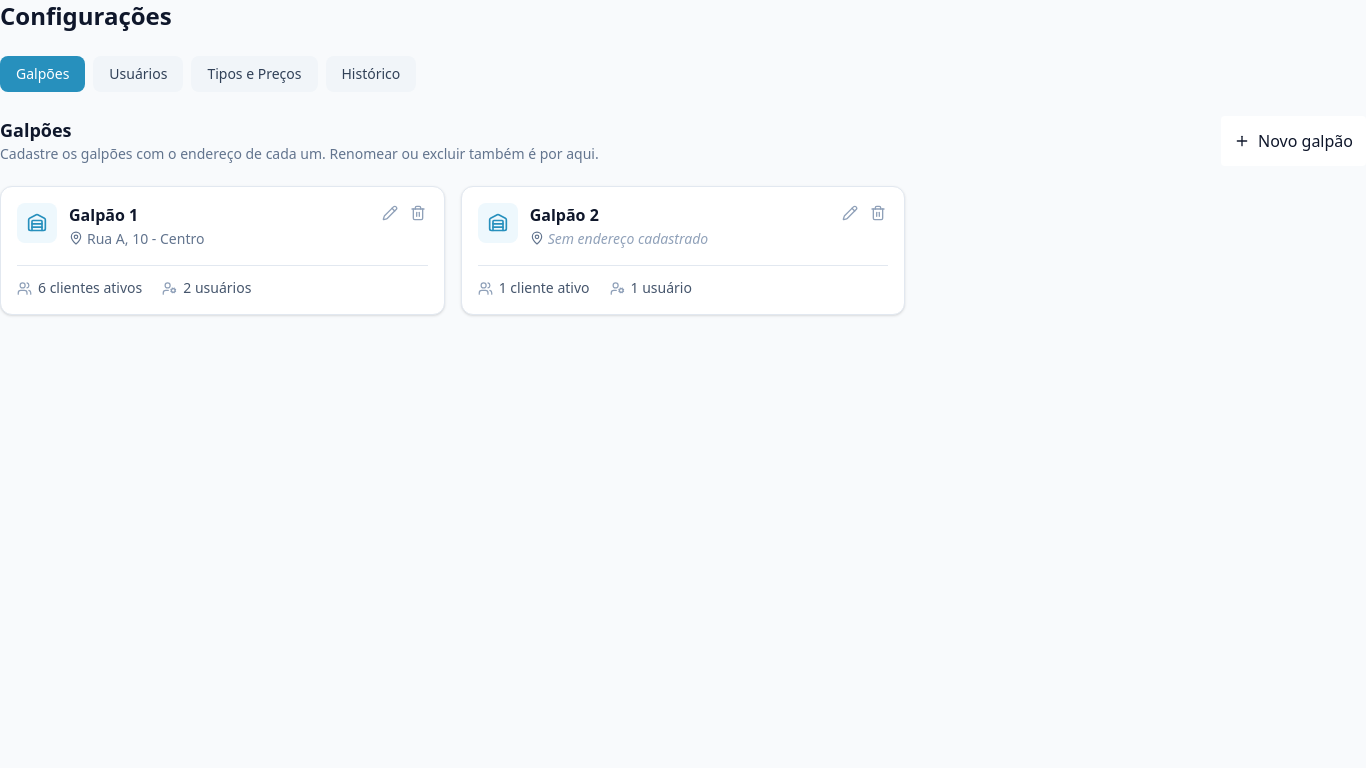
Configurações: Galpões › criar e editar › Editar: abre com os dados atuais e salva a mudança
This screenshot has width=1366, height=768.
Expected: the heading "Configurações" is shown, left=0, top=0, right=172, bottom=32
Expected: the heading "Galpão 1" is shown, left=69, top=204, right=138, bottom=226
Click the button named "Editar galpão" in the row of "Galpão 1". click: {"x": 390, "y": 213}
box: left=376, top=199, right=404, bottom=227
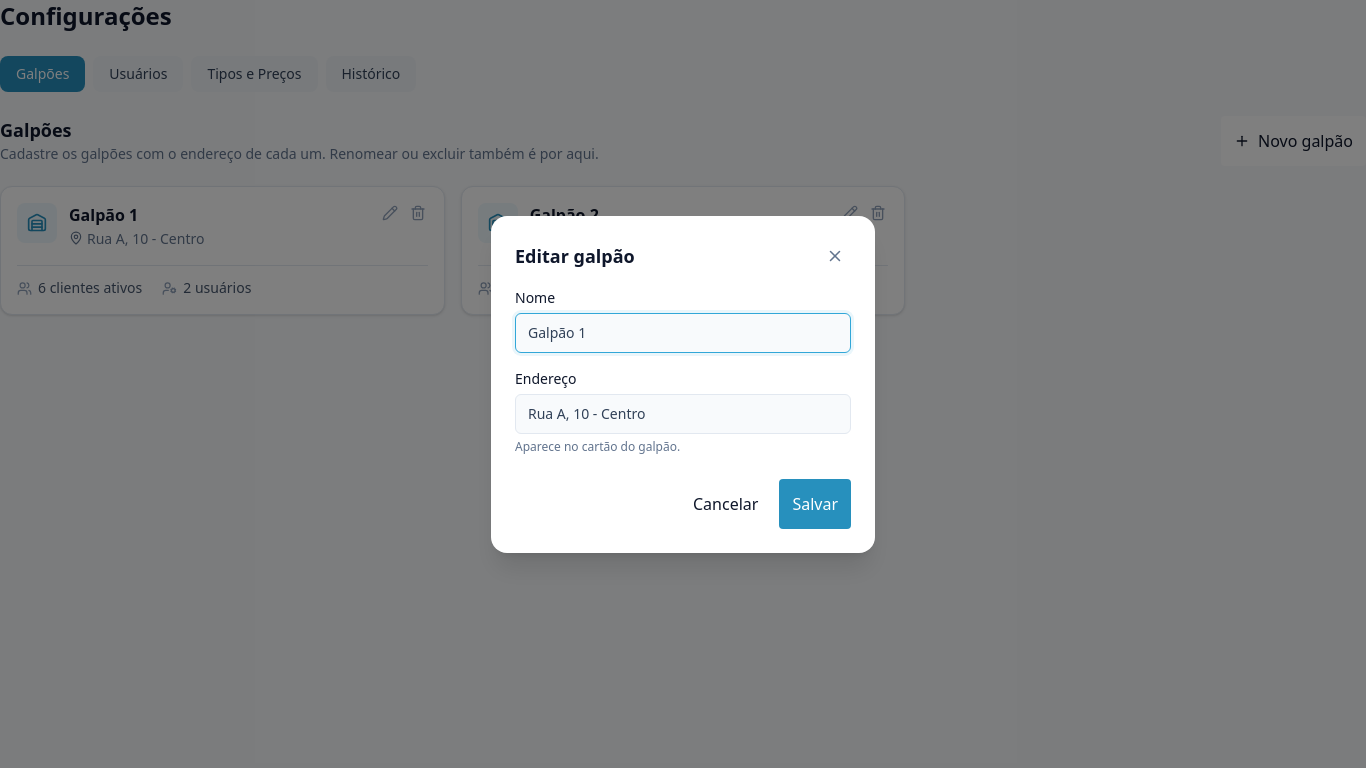
Expected: the field labelled "Nome" holds "Galpão 1"
Expected: the field labelled "Endereço" holds "Rua A, 10 - Centro", left=516, top=404, right=850, bottom=423
Replace the text in the field labelled "Nome" with "Galpão Principal". click: {"x": 683, "y": 332}
box: left=516, top=323, right=850, bottom=342
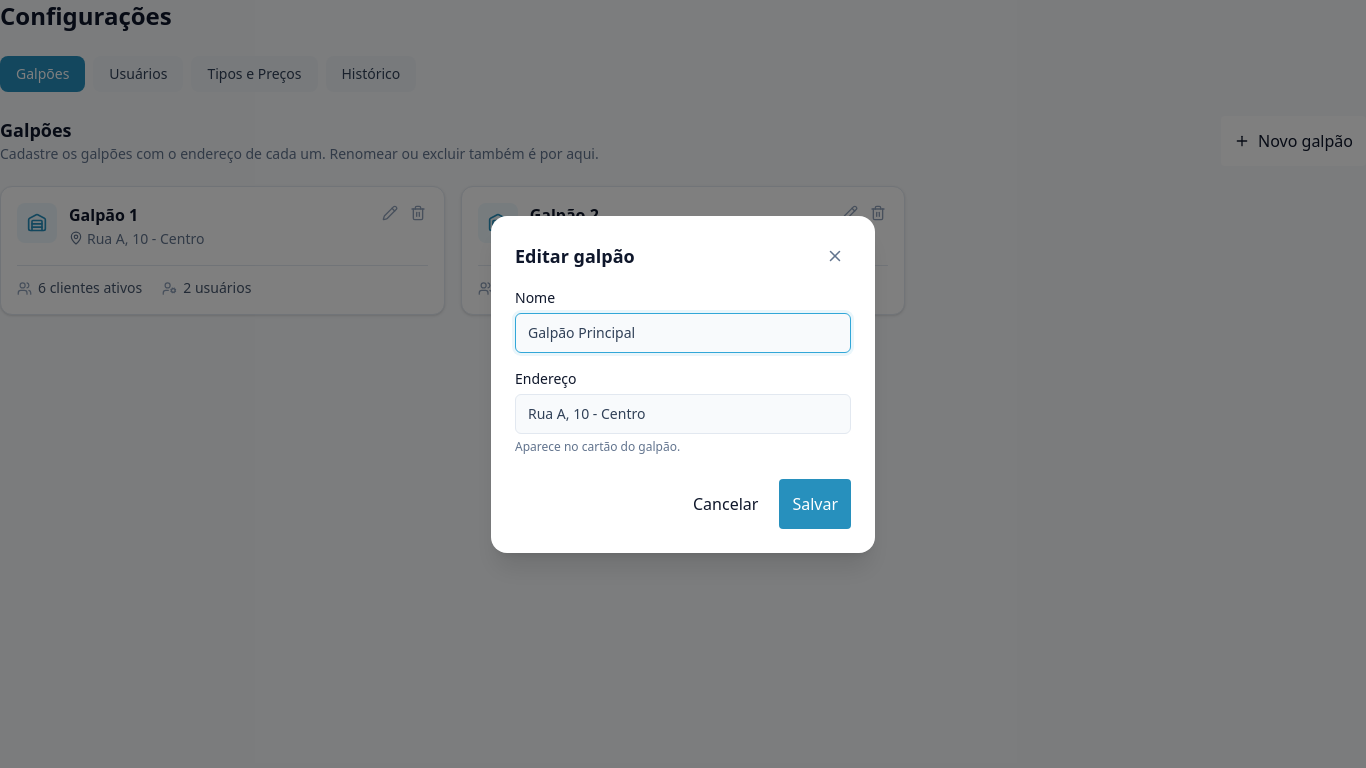
Click the button "Salvar". click: {"x": 815, "y": 504}
box: left=779, top=478, right=851, bottom=528
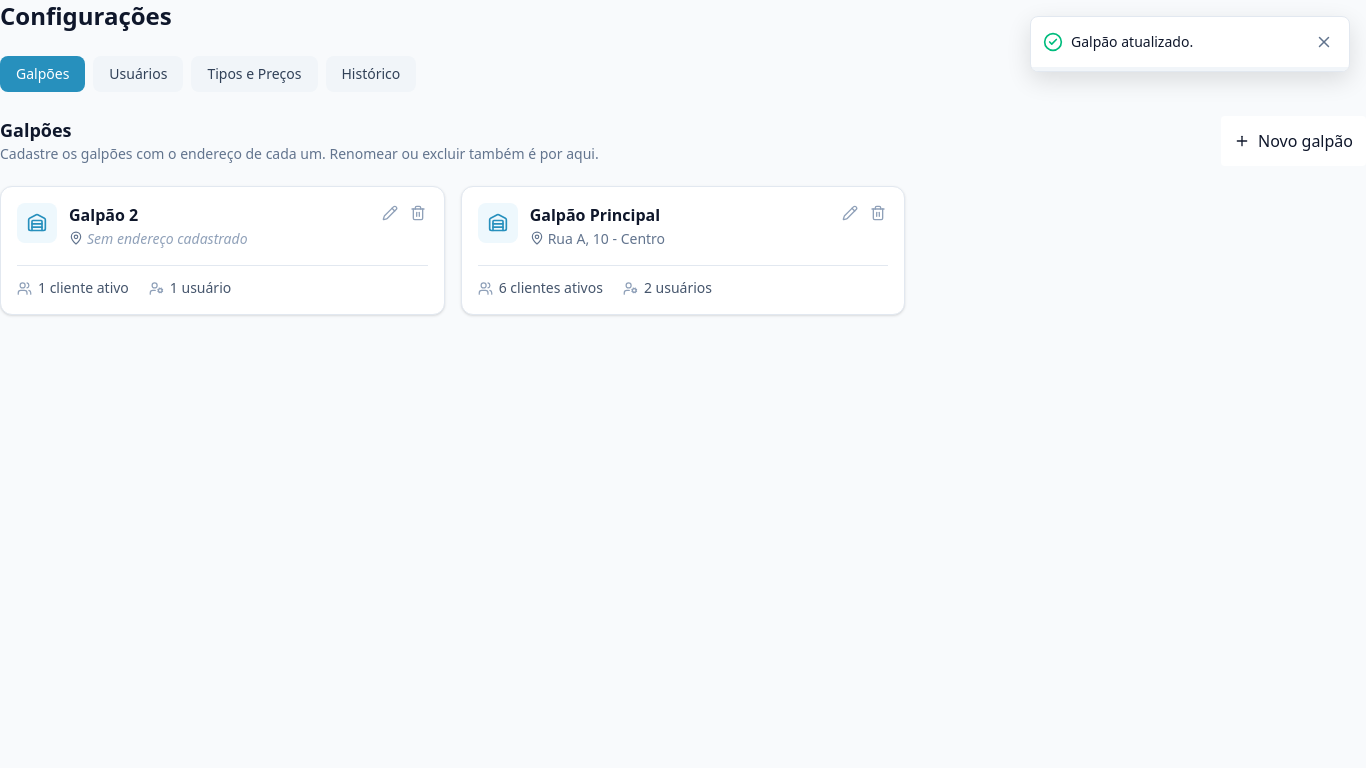
Expected: the text "Galpão atualizado." is shown, left=1071, top=32, right=1193, bottom=51
